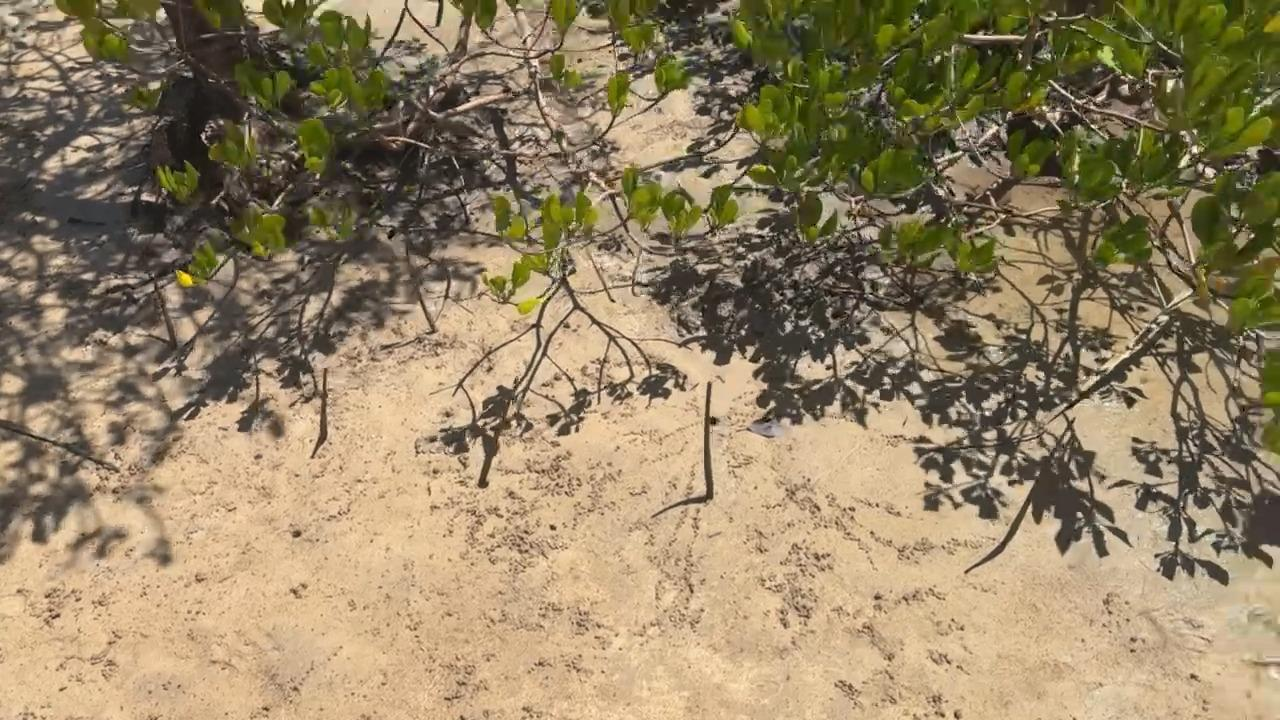Tree: (1001, 416, 1078, 544), (138, 249, 178, 352), (477, 378, 519, 459), (403, 241, 439, 333), (703, 379, 715, 500), (318, 367, 330, 443)
